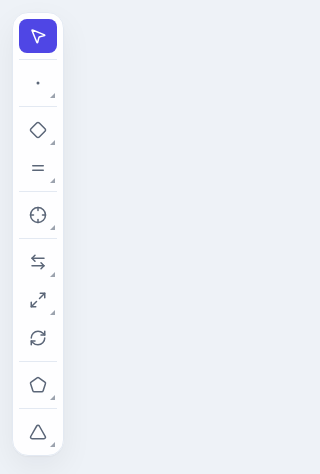
Test: ConstructionToolbar › groups the homothety tools under a single flyout button
The width and height of the screenshot is (320, 474).
Expected: the button "Homothety (point ratio)" is not shown
Expected: the button "Homothety (numeric ratio)" is not shown
Click the button named "Homothety": (38, 300) [19,283,57,317]
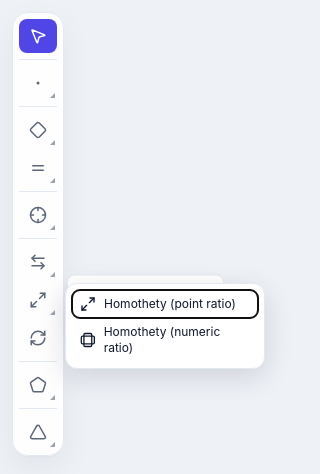
Click the menu item "Homothety (numeric ratio)": (165, 340) [72,318,258,362]
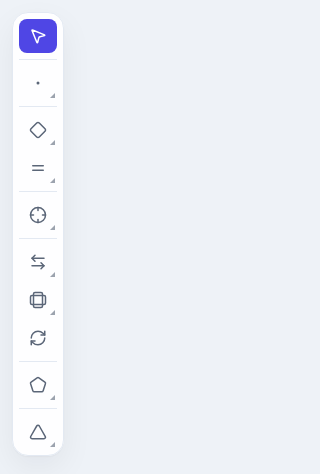
Result: the menu is gone
